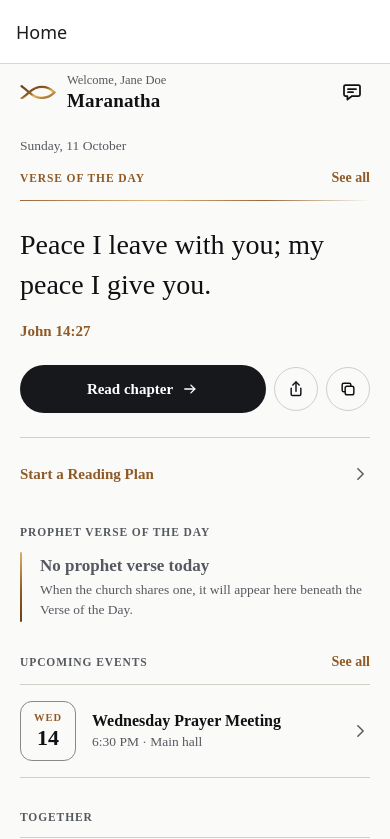
it: HomeScreen › shows the next event as a row with a date block, and opens it
Expected: the text "Wednesday Prayer Meeting" is shown, [92,712,281,729]
Expected: the text "6:30 PM · Main hall" is shown, [92,734,202,749]
Click the button with test id "home-next-event".
click(195, 731)  # box [20,684,370,778]
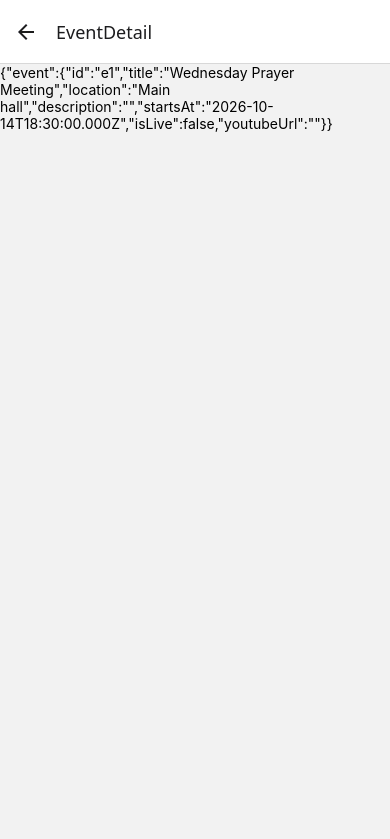
Expected: the text with test id "event-detail-stub" is shown, [0,64,389,132]
